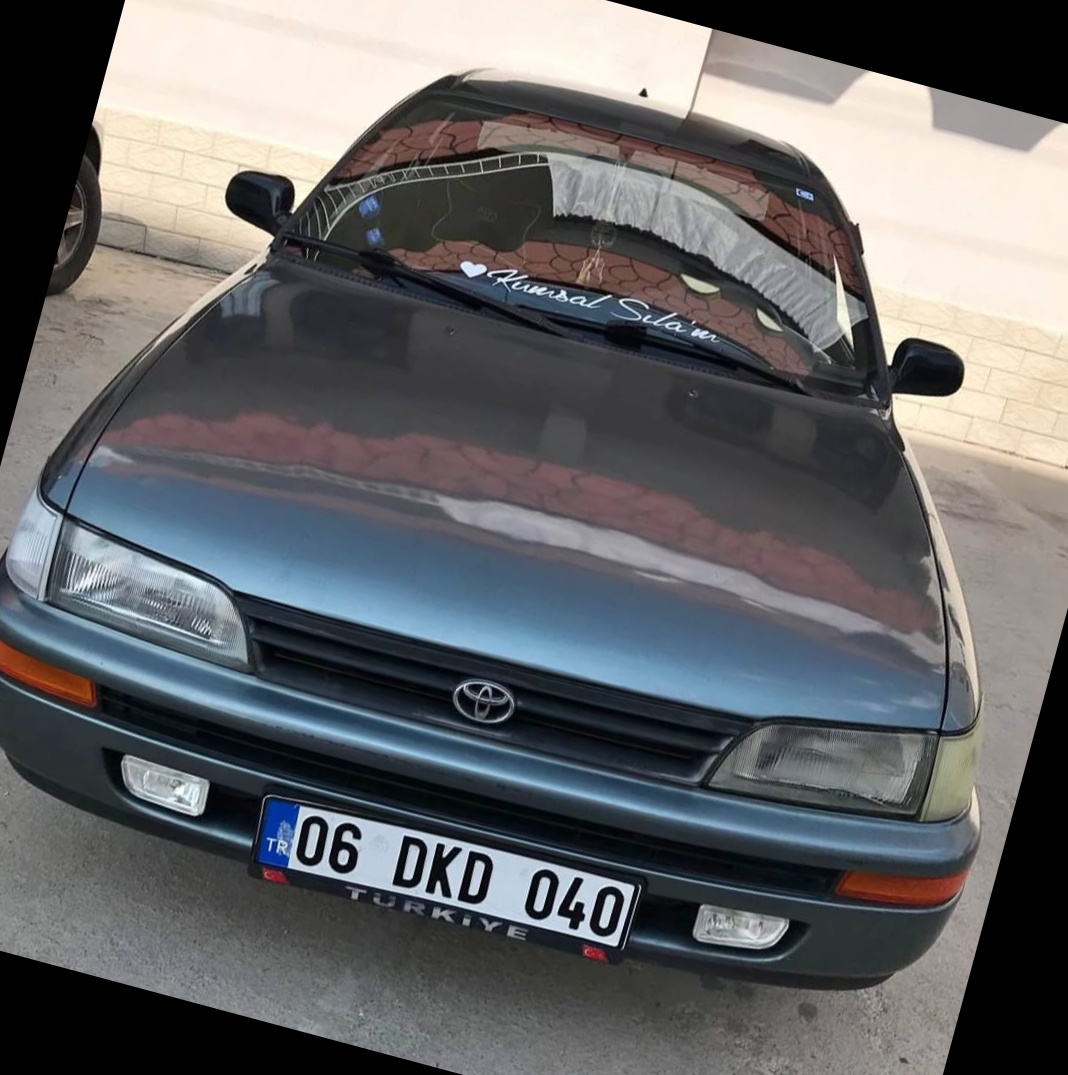plaka: (291, 780, 626, 957)
